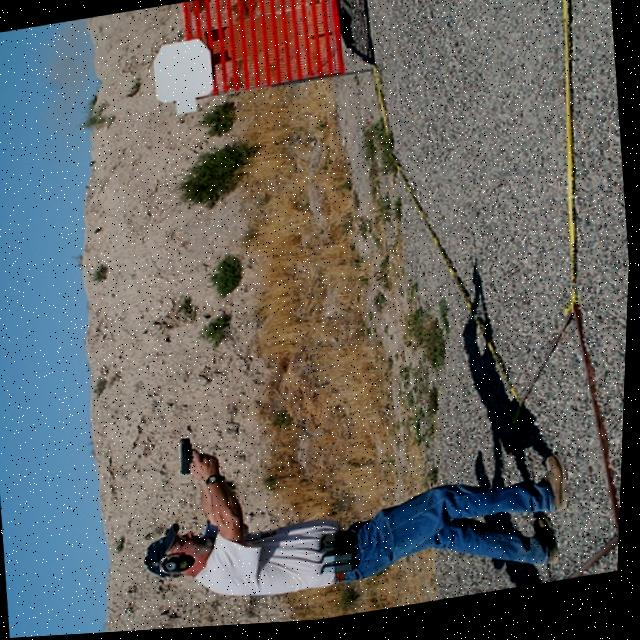pistol: (178, 438, 205, 480)
